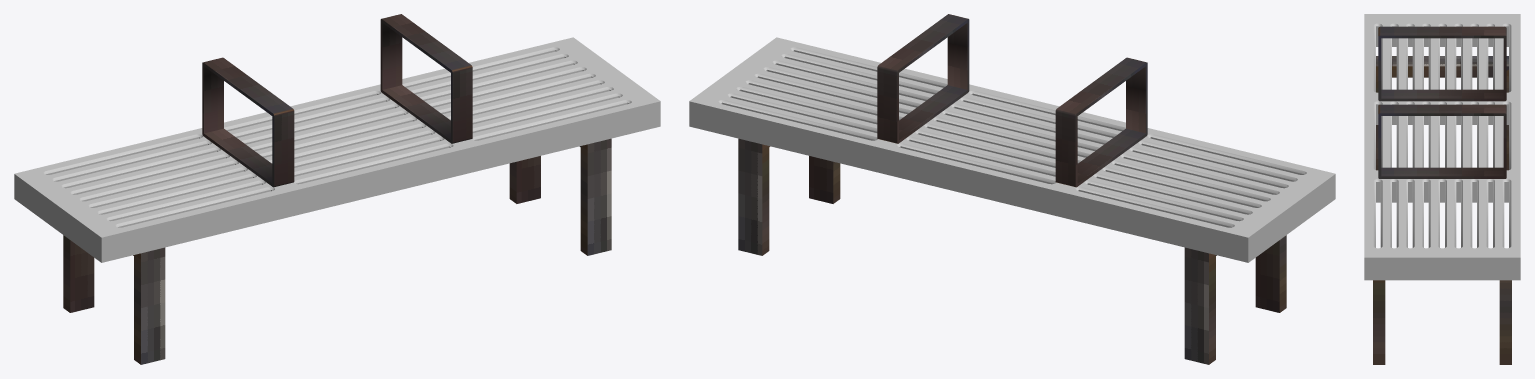
The picture shows the model from 3 angles, left to right: view 1: azimuth 30°, elevation 25°; view 2: azimuth 150°, elevation 25°; view 3: azimuth 270°, elevation 25°; orthographic projection. The views are drawn at different scales.
Parts seen in each view (by area): view 1: mesh1_mesh1-geometry, mesh64_mesh64-geometry, mesh57_mesh57-geometry; view 2: mesh1_mesh1-geometry, mesh64_mesh64-geometry, mesh57_mesh57-geometry; view 3: mesh1_mesh1-geometry, mesh64_mesh64-geometry, mesh57_mesh57-geometry, mesh59_mesh59-geometry.
Boxes of the visible parts, bbox=[...] form: mesh1_mesh1-geometry: bbox=[14, 37, 660, 262]; mesh64_mesh64-geometry: bbox=[202, 14, 472, 187]; mesh57_mesh57-geometry: bbox=[63, 138, 611, 364]; mesh1_mesh1-geometry: bbox=[689, 37, 1335, 262]; mesh64_mesh64-geometry: bbox=[877, 14, 1147, 187]; mesh57_mesh57-geometry: bbox=[738, 138, 1286, 364]; mesh1_mesh1-geometry: bbox=[1364, 14, 1520, 280]; mesh64_mesh64-geometry: bbox=[1378, 26, 1506, 178]; mesh57_mesh57-geometry: bbox=[1373, 69, 1511, 364]; mesh59_mesh59-geometry: bbox=[1376, 56, 1508, 77].
Bounding box in the file's own units: 0.9096 × 0.3346 × 0.2462.
